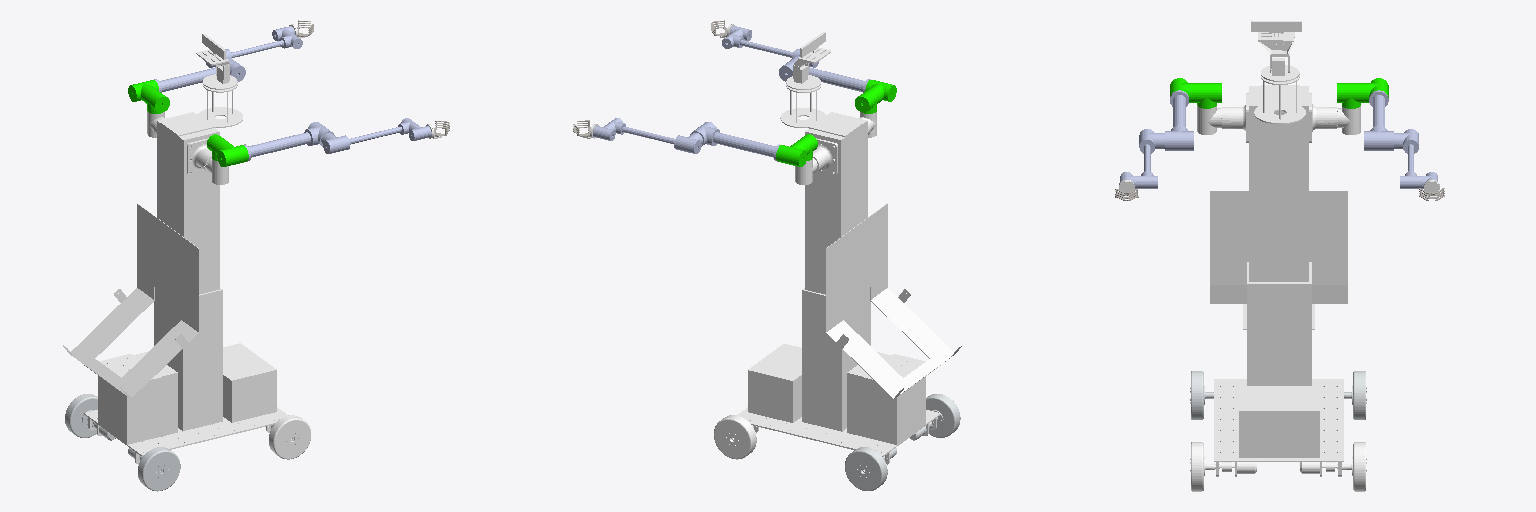
--- Facts derived from the render (not from the file) ---
Views: 3 orthographic renders of the robot side by side, from view 1: azimuth 30°, elevation 25°; view 2: azimuth 150°, elevation 25°; view 3: azimuth 270°, elevation 25°.
Model hustac_pg_v3 with 27 links and 26 joints (24 continuous, 1 prismatic, 1 fixed), rooted at base_link, posed all joints at 0.
Visible links, largest first — view 1: base_link, torso_link, movebase_link3, movebase_link4, movebase_link2, right_link3, left_link3, gaze_link2, left_link5, right_link2, left_link1, right_link5; view 2: base_link, torso_link, movebase_link2, movebase_link1, movebase_link3, left_link3, right_link3, gaze_link2, right_link5, left_link2, right_link1; view 3: base_link, torso_link, gaze_link2, right_link3, left_link3, movebase_link4, movebase_link1, movebase_link3, movebase_link2, left_link1, right_link1, right_link5 (+2 smaller).
Boxes of the visible links, left/top/right/bottom form: base_link: left=63, top=203, right=287, bottom=464; torso_link: left=147, top=84, right=242, bottom=294; movebase_link3: left=128, top=447, right=180, bottom=491; movebase_link4: left=269, top=415, right=310, bottom=459; movebase_link2: left=65, top=394, right=115, bottom=440; right_link3: left=244, top=122, right=334, bottom=161; left_link3: left=154, top=57, right=245, bottom=92; gaze_link2: left=196, top=34, right=229, bottom=82; left_link5: left=225, top=31, right=302, bottom=57; right_link2: left=217, top=144, right=248, bottom=166; left_link1: left=142, top=87, right=169, bottom=113; right_link5: left=344, top=118, right=417, bottom=149; base_link: left=737, top=203, right=961, bottom=464; torso_link: left=780, top=84, right=876, bottom=294; movebase_link2: left=845, top=447, right=896, bottom=490; movebase_link1: left=714, top=415, right=756, bottom=459; movebase_link3: left=910, top=394, right=960, bottom=440; left_link3: left=690, top=122, right=779, bottom=161; right_link3: left=779, top=56, right=870, bottom=92; gaze_link2: left=793, top=32, right=830, bottom=82; right_link5: left=722, top=31, right=798, bottom=58; left_link2: left=776, top=144, right=806, bottom=166; right_link1: left=855, top=87, right=882, bottom=113; base_link: left=1210, top=191, right=1347, bottom=476; torso_link: left=1197, top=75, right=1360, bottom=281; gaze_link2: left=1251, top=20, right=1301, bottom=72; right_link3: left=1165, top=90, right=1193, bottom=150; left_link3: left=1364, top=90, right=1393, bottom=150; movebase_link4: left=1190, top=442, right=1256, bottom=491; movebase_link1: left=1300, top=442, right=1366, bottom=491; movebase_link3: left=1190, top=371, right=1213, bottom=419; movebase_link2: left=1344, top=371, right=1366, bottom=419; left_link1: left=1337, top=83, right=1365, bottom=108; right_link1: left=1193, top=83, right=1221, bottom=108; right_link5: left=1136, top=139, right=1157, bottom=188.
Size in the robot's own frame: 1.15 by 1.02 by 1.51 metres.
26 mesh visuals loaded from 26 distinct referenced files (26 binary STL).

URDF robot description (hustac_pg_v3):
<robot
  name="hustac_pg_v3">
  <link
    name="base_link">
    <inertial>
      <origin
        xyz="-0.152384801730416 -4.93351711045031E-05 0.124894877388109"
        rpy="0 0 0" />
      <mass
        value="89.4624907016849" />
      <inertia
        ixx="1.43388345490279"
        ixy="0.000132975839239011"
        ixz="0.0514523208680338"
        iyy="2.6124534899288"
        iyz="0.000473477453912868"
        izz="2.01349439687514" />
    </inertial>
    <visual>
      <origin
        xyz="0 0 0"
        rpy="0 0 0" />
      <geometry>
        <mesh
          filename="package://hustac_pg_v3/meshes/base_link.STL" />
      </geometry>
      <material
        name="">
        <color
          rgba="1 1 1 1" />
      </material>
    </visual>
    <collision>
      <origin
        xyz="0 0 0"
        rpy="0 0 0" />
      <geometry>
        <mesh
          filename="package://hustac_pg_v3/meshes/base_link.STL" />
      </geometry>
    </collision>
  </link>
  <link
    name="torso_link">
    <inertial>
      <origin
        xyz="0.00079827642328939 3.01921383917825E-05 0.316114605643553"
        rpy="0 0 0" />
      <mass
        value="17.0454055093511" />
      <inertia
        ixx="0.619315965099835"
        ixy="-4.00339004677739E-05"
        ixz="-0.00436386396268782"
        iyy="0.570828514708695"
        iyz="-0.000158229659340951"
        izz="0.108622338127867" />
    </inertial>
    <visual>
      <origin
        xyz="0 0 0"
        rpy="0 0 0" />
      <geometry>
        <mesh
          filename="package://hustac_pg_v3/meshes/torso_link.STL" />
      </geometry>
      <material
        name="">
        <color
          rgba="1 1 1 1" />
      </material>
    </visual>
    <collision>
      <origin
        xyz="0 0 0"
        rpy="0 0 0" />
      <geometry>
        <mesh
          filename="package://hustac_pg_v3/meshes/torso_link.STL" />
      </geometry>
    </collision>
  </link>
  <joint
    name="torso_joint"
    type="prismatic">
    <origin
      xyz="-1.5832E-05 -1.5832E-05 0.5"
      rpy="-7.8886E-31 -2.4286E-16 -2.6984E-16" />
    <parent
      link="base_link" />
    <child
      link="torso_link" />
    <axis
      xyz="0 0 1" />
    <limit
      effort="0"
      velocity="0" />
  </joint>
  <link
    name="left_link1">
    <inertial>
      <origin
        xyz="4.74441436137951E-09 0.000860606471021985 -0.00379622825057979"
        rpy="0 0 0" />
      <mass
        value="0.282400129639665" />
      <inertia
        ixx="0.000253509602154742"
        ixy="-1.0982666294E-11"
        ixz="1.85279386064996E-11"
        iyy="0.000155226372619024"
        iyz="-9.22617777124374E-07"
        izz="0.00023525341674752" />
    </inertial>
    <visual>
      <origin
        xyz="0 0 0"
        rpy="0 0 0" />
      <geometry>
        <mesh
          filename="package://hustac_pg_v3/meshes/left_link1.STL" />
      </geometry>
      <material
        name="">
        <color
          rgba="0.168627450980392 1 0.0274509803921569 1" />
      </material>
    </visual>
    <collision>
      <origin
        xyz="0 0 0"
        rpy="0 0 0" />
      <geometry>
        <mesh
          filename="package://hustac_pg_v3/meshes/left_link1.STL" />
      </geometry>
    </collision>
  </link>
  <joint
    name="left_joint1"
    type="continuous">
    <origin
      xyz="0 0.222 0.61"
      rpy="-3.47304729036467E-17 5.96744875736022E-16 -3.14159265358979" />
    <parent
      link="torso_link" />
    <child
      link="left_link1" />
    <axis
      xyz="0 0 1" />
  </joint>
  <link
    name="left_link2">
    <inertial>
      <origin
        xyz="9.45305167476818E-10 0.000860606505898143 -0.00379622536975684"
        rpy="0 0 0" />
      <mass
        value="0.2824001142096" />
      <inertia
        ixx="0.000253509580708817"
        ixy="-1.08641723538627E-11"
        ixz="5.26586097434057E-12"
        iyy="0.000155226373044821"
        iyz="-9.22617058430691E-07"
        izz="0.000235253423304767" />
    </inertial>
    <visual>
      <origin
        xyz="0 0 0"
        rpy="0 0 0" />
      <geometry>
        <mesh
          filename="package://hustac_pg_v3/meshes/left_link2.STL" />
      </geometry>
      <material
        name="">
        <color
          rgba="0.168627450980392 1 0.0274509803921569 1" />
      </material>
    </visual>
    <collision>
      <origin
        xyz="0 0 0"
        rpy="0 0 0" />
      <geometry>
        <mesh
          filename="package://hustac_pg_v3/meshes/left_link2.STL" />
      </geometry>
    </collision>
  </link>
  <joint
    name="left_joint2"
    type="continuous">
    <origin
      xyz="0 -0.0849999999999999 0"
      rpy="1.70423675438618 1.57079631189374 0.133440427591288" />
    <parent
      link="left_link1" />
    <child
      link="left_link2" />
    <axis
      xyz="0 0 1" />
  </joint>
  <link
    name="left_link3">
    <inertial>
      <origin
        xyz="2.09170325504715E-09 0.00037942163947207 -0.0993975720132856"
        rpy="0 0 0" />
      <mass
        value="0.640541692148901" />
      <inertia
        ixx="0.00726441985226313"
        ixy="-1.16273689456554E-11"
        ixz="-1.0956096526367E-10"
        iyy="0.00716601967778952"
        iyz="-2.41571265900033E-05"
        izz="0.000321135841128423" />
    </inertial>
    <visual>
      <origin
        xyz="0 0 0"
        rpy="0 0 0" />
      <geometry>
        <mesh
          filename="package://hustac_pg_v3/meshes/left_link3.STL" />
      </geometry>
      <material
        name="">
        <color
          rgba="0.792156862745098 0.819607843137255 0.933333333333333 1" />
      </material>
    </visual>
    <collision>
      <origin
        xyz="0 0 0"
        rpy="0 0 0" />
      <geometry>
        <mesh
          filename="package://hustac_pg_v3/meshes/left_link3.STL" />
      </geometry>
    </collision>
  </link>
  <joint
    name="left_joint3"
    type="continuous">
    <origin
      xyz="0 -0.35 0"
      rpy="-1.5707963267949 9.34447673947081E-17 3.14159265358979" />
    <parent
      link="left_link2" />
    <child
      link="left_link3" />
    <axis
      xyz="0 0 1" />
  </joint>
  <link
    name="left_link4">
    <inertial>
      <origin
        xyz="5.23182497325081E-10 0.000987080498156996 -0.0110209547990487"
        rpy="0 0 0" />
      <mass
        value="0.188640665914286" />
      <inertia
        ixx="0.000135106424724665"
        ixy="-1.24512886603136E-11"
        ixz="4.47078440440258E-12"
        iyy="0.000108943726861082"
        iyz="-2.05214060471245E-06"
        izz="8.93151006462272E-05" />
    </inertial>
    <visual>
      <origin
        xyz="0 0 0"
        rpy="0 0 0" />
      <geometry>
        <mesh
          filename="package://hustac_pg_v3/meshes/left_link4.STL" />
      </geometry>
      <material
        name="">
        <color
          rgba="0.792156862745098 0.819607843137255 0.933333333333333 1" />
      </material>
    </visual>
    <collision>
      <origin
        xyz="0 0 0"
        rpy="0 0 0" />
      <geometry>
        <mesh
          filename="package://hustac_pg_v3/meshes/left_link4.STL" />
      </geometry>
    </collision>
  </link>
  <joint
    name="left_joint4"
    type="continuous">
    <origin
      xyz="0 -0.0990000000000001 0"
      rpy="-1.5707963267949 -1.11022302462516E-16 -3.14159265358979" />
    <parent
      link="left_link3" />
    <child
      link="left_link4" />
    <axis
      xyz="0 0 1" />
  </joint>
  <link
    name="left_link5">
    <inertial>
      <origin
        xyz="1.36848732346095E-09 0.000497540428185728 -0.078440352473969"
        rpy="0 0 0" />
      <mass
        value="0.188789060770594" />
      <inertia
        ixx="0.00171650030081302"
        ixy="-1.81891555999539E-12"
        ixz="-1.69828496417892E-11"
        iyy="0.00169655727215824"
        iyz="-7.36791722311758E-06"
        izz="5.19114920499587E-05" />
    </inertial>
    <visual>
      <origin
        xyz="0 0 0"
        rpy="0 0 0" />
      <geometry>
        <mesh
          filename="package://hustac_pg_v3/meshes/left_link5.STL" />
      </geometry>
      <material
        name="">
        <color
          rgba="0.792156862745098 0.819607843137255 0.933333333333333 1" />
      </material>
    </visual>
    <collision>
      <origin
        xyz="0 0 0"
        rpy="0 0 0" />
      <geometry>
        <mesh
          filename="package://hustac_pg_v3/meshes/left_link5.STL" />
      </geometry>
    </collision>
  </link>
  <joint
    name="left_joint5"
    type="continuous">
    <origin
      xyz="0 -0.3 0"
      rpy="-1.5707963267949 -1.60902701370267E-16 3.14159265358979" />
    <parent
      link="left_link4" />
    <child
      link="left_link5" />
    <axis
      xyz="0 0 1" />
  </joint>
  <link
    name="left_link6">
    <inertial>
      <origin
        xyz="6.11908523850957E-10 0.000997680391540134 -0.00297185603629835"
        rpy="0 0 0" />
      <mass
        value="0.0941485774984353" />
      <inertia
        ixx="4.39688594097792E-05"
        ixy="-1.75091815300525E-12"
        ixz="1.02575145125081E-12"
        iyy="2.40728118714626E-05"
        iyz="-2.79147001136473E-07"
        izz="4.03142529145276E-05" />
    </inertial>
    <visual>
      <origin
        xyz="0 0 0"
        rpy="0 0 0" />
      <geometry>
        <mesh
          filename="package://hustac_pg_v3/meshes/left_link6.STL" />
      </geometry>
      <material
        name="">
        <color
          rgba="0.792156862745098 0.819607843137255 0.933333333333333 1" />
      </material>
    </visual>
    <collision>
      <origin
        xyz="0 0 0"
        rpy="0 0 0" />
      <geometry>
        <mesh
          filename="package://hustac_pg_v3/meshes/left_link6.STL" />
      </geometry>
    </collision>
  </link>
  <joint
    name="left_joint6"
    type="continuous">
    <origin
      xyz="0 -0.0640000000000001 0"
      rpy="-1.5707963267949 6.93889390390723E-18 -3.14159265358979" />
    <parent
      link="left_link5" />
    <child
      link="left_link6" />
    <axis
      xyz="0 0 1" />
  </joint>
  <link
    name="left_link7">
    <inertial>
      <origin
        xyz="3.10255765523237E-10 0.00488175590325657 0.0094593306659026"
        rpy="0 0 0" />
      <mass
        value="0.0238610409992475" />
      <inertia
        ixx="6.6214330650804E-06"
        ixy="3.51067575764802E-14"
        ixz="1.5049175610862E-14"
        iyy="5.93593202992512E-06"
        iyz="-1.62955877142949E-06"
        izz="8.29159974096986E-06" />
    </inertial>
    <visual>
      <origin
        xyz="0 0 0"
        rpy="0 0 0" />
      <geometry>
        <mesh
          filename="package://hustac_pg_v3/meshes/left_link7.STL" />
      </geometry>
      <material
        name="">
        <color
          rgba="1 1 1 1" />
      </material>
    </visual>
    <collision>
      <origin
        xyz="0 0 0"
        rpy="0 0 0" />
      <geometry>
        <mesh
          filename="package://hustac_pg_v3/meshes/left_link7.STL" />
      </geometry>
    </collision>
  </link>
  <joint
    name="left_joint7"
    type="continuous">
    <origin
      xyz="0 -0.034 0"
      rpy="1.5707963267949 1.5707963267949 0" />
    <parent
      link="left_link6" />
    <child
      link="left_link7" />
    <axis
      xyz="0 0 1" />
  </joint>
  <link
    name="left_ee_link">
    <inertial>
      <origin
        xyz="-0.0104511249147865 0.0200422330307001 0.00473202669947459"
        rpy="0 0 0" />
      <mass
        value="0.00506893153791106" />
      <inertia
        ixx="2.42978795459253E-06"
        ixy="3.6419508303903E-07"
        ixz="2.13478750983576E-07"
        iyy="1.02186457282365E-06"
        iyz="-6.73507198403219E-07"
        izz="2.46533886484517E-06" />
    </inertial>
    <visual>
      <origin
        xyz="0 0 0"
        rpy="0 0 0" />
      <geometry>
        <mesh
          filename="package://hustac_pg_v3/meshes/left_ee_link.STL" />
      </geometry>
      <material
        name="">
        <color
          rgba="0.776470588235294 0.756862745098039 0.737254901960784 1" />
      </material>
    </visual>
    <collision>
      <origin
        xyz="0 0 0"
        rpy="0 0 0" />
      <geometry>
        <mesh
          filename="package://hustac_pg_v3/meshes/left_ee_link.STL" />
      </geometry>
    </collision>
  </link>
  <joint
    name="left_ee_joint"
    type="continuous">
    <origin
      xyz="-0.0110000000000008 0.0105000000000003 0.0221811953944651"
      rpy="1.5707963267949 6.40215462385206E-19 2.24264473650599E-16" />
    <parent
      link="left_link7" />
    <child
      link="left_ee_link" />
    <axis
      xyz="0 0 -1" />
  </joint>
  <link
    name="left_ee_link2">
    <inertial>
      <origin
        xyz="0.0098988779365487 0.020320662696838 0.0047320266994747"
        rpy="0 0 0" />
      <mass
        value="0.005068931537911" />
      <inertia
        ixx="2.44865465013533E-06"
        ixy="-3.25144959237628E-07"
        ixz="-1.94972377252117E-07"
        iyy="1.00299787728082E-06"
        iyz="-6.79095645348363E-07"
        izz="2.46533886484514E-06" />
    </inertial>
    <visual>
      <origin
        xyz="0 0 0"
        rpy="0 0 0" />
      <geometry>
        <mesh
          filename="package://hustac_pg_v3/meshes/left_ee_link2.STL" />
      </geometry>
      <material
        name="">
        <color
          rgba="0.776470588235294 0.756862745098039 0.737254901960784 1" />
      </material>
    </visual>
    <collision>
      <origin
        xyz="0 0 0"
        rpy="0 0 0" />
      <geometry>
        <mesh
          filename="package://hustac_pg_v3/meshes/left_ee_link2.STL" />
      </geometry>
    </collision>
  </link>
  <joint
    name="left_ee_joint2"
    type="continuous">
    <origin
      xyz="0.0110000000000001 0.0105000000000002 0.0221811953944651"
      rpy="1.5707963267949 6.40215462385206E-19 2.24264473650599E-16" />
    <parent
      link="left_link7" />
    <child
      link="left_ee_link2" />
    <axis
      xyz="0 0 -1" />
  </joint>
  <link
    name="right_link1">
    <inertial>
      <origin
        xyz="-2.87357232453545E-09 0.000860606448409518 -0.00379622823748849"
        rpy="0 0 0" />
      <mass
        value="0.282400129088101" />
      <inertia
        ixx="0.000253509602809457"
        ixy="-1.28341065106255E-11"
        ixz="-6.97934423758907E-12"
        iyy="0.000155226372481429"
        iyz="-9.22617736839297E-07"
        izz="0.000235253415531243" />
    </inertial>
    <visual>
      <origin
        xyz="0 0 0"
        rpy="0 0 0" />
      <geometry>
        <mesh
          filename="package://hustac_pg_v3/meshes/right_link1.STL" />
      </geometry>
      <material
        name="">
        <color
          rgba="0.168627450980392 1 0.0274509803921569 1" />
      </material>
    </visual>
    <collision>
      <origin
        xyz="0 0 0"
        rpy="0 0 0" />
      <geometry>
        <mesh
          filename="package://hustac_pg_v3/meshes/right_link1.STL" />
      </geometry>
    </collision>
  </link>
  <joint
    name="right_joint1"
    type="continuous">
    <origin
      xyz="0 -0.222 0.61"
      rpy="-1.44900829258215E-16 -7.14706072102445E-16 2.84494650060195E-15" />
    <parent
      link="torso_link" />
    <child
      link="right_link1" />
    <axis
      xyz="0 0 1" />
  </joint>
  <link
    name="right_link2">
    <inertial>
      <origin
        xyz="9.45305167476818E-10 0.000860606505897976 -0.00379622536975677"
        rpy="0 0 0" />
      <mass
        value="0.2824001142096" />
      <inertia
        ixx="0.000253509580708817"
        ixy="-1.08641723936732E-11"
        ixz="5.26586103021678E-12"
        iyy="0.000155226373044821"
        iyz="-9.22617058430763E-07"
        izz="0.000235253423304767" />
    </inertial>
    <visual>
      <origin
        xyz="0 0 0"
        rpy="0 0 0" />
      <geometry>
        <mesh
          filename="package://hustac_pg_v3/meshes/right_link2.STL" />
      </geometry>
      <material
        name="">
        <color
          rgba="0.168627450980392 1 0.0274509803921569 1" />
      </material>
    </visual>
    <collision>
      <origin
        xyz="0 0 0"
        rpy="0 0 0" />
      <geometry>
        <mesh
          filename="package://hustac_pg_v3/meshes/right_link2.STL" />
      </geometry>
    </collision>
  </link>
  <joint
    name="right_joint2"
    type="continuous">
    <origin
      xyz="0 -0.085 0"
      rpy="1.5707963267949 -1.5707963267949 0" />
    <parent
      link="right_link1" />
    <child
      link="right_link2" />
    <axis
      xyz="0 0 1" />
  </joint>
  <link
    name="right_link3">
    <inertial>
      <origin
        xyz="-1.26689192470053E-09 0.000379421629088439 -0.0993975720898352"
        rpy="0 0 0" />
      <mass
        value="0.640541691597337" />
      <inertia
        ixx="0.00726441984857735"
        ixy="-1.24436265420934E-11"
        ixz="7.06008805139157E-11"
        iyy="0.00716601967331769"
        iyz="-2.4157125915642E-05"
        izz="0.00032113583990587" />
    </inertial>
    <visual>
      <origin
        xyz="0 0 0"
        rpy="0 0 0" />
      <geometry>
        <mesh
          filename="package://hustac_pg_v3/meshes/right_link3.STL" />
      </geometry>
      <material
        name="">
        <color
          rgba="0.792156862745098 0.819607843137255 0.933333333333333 1" />
      </material>
    </visual>
    <collision>
      <origin
        xyz="0 0 0"
        rpy="0 0 0" />
      <geometry>
        <mesh
          filename="package://hustac_pg_v3/meshes/right_link3.STL" />
      </geometry>
    </collision>
  </link>
  <joint
    name="right_joint3"
    type="continuous">
    <origin
      xyz="0 -0.35 0"
      rpy="-1.5707963267949 4.69556343789277E-17 3.14159265358979" />
    <parent
      link="right_link2" />
    <child
      link="right_link3" />
    <axis
      xyz="0 0 1" />
  </joint>
  <link
    name="right_link4">
    <inertial>
      <origin
        xyz="5.23182608347383E-10 0.000987080498156993 -0.0110209547990489"
        rpy="0 0 0" />
      <mass
        value="0.188640665914286" />
      <inertia
        ixx="0.000135106424724665"
        ixy="-1.24512886755602E-11"
        ixz="4.47078447625519E-12"
        iyy="0.000108943726861082"
        iyz="-2.0521406047124E-06"
        izz="8.93151006462272E-05" />
    </inertial>
    <visual>
      <origin
        xyz="0 0 0"
        rpy="0 0 0" />
      <geometry>
        <mesh
          filename="package://hustac_pg_v3/meshes/right_link4.STL" />
      </geometry>
      <material
        name="">
        <color
          rgba="0.792156862745098 0.819607843137255 0.933333333333333 1" />
      </material>
    </visual>
    <collision>
      <origin
        xyz="0 0 0"
        rpy="0 0 0" />
      <geometry>
        <mesh
          filename="package://hustac_pg_v3/meshes/right_link4.STL" />
      </geometry>
    </collision>
  </link>
  <joint
    name="right_joint4"
    type="continuous">
    <origin
      xyz="0 -0.0990000000000004 0"
      rpy="-1.5707963267949 -6.93889390390723E-18 3.14159265358979" />
    <parent
      link="right_link3" />
    <child
      link="right_link4" />
    <axis
      xyz="0 0 1" />
  </joint>
  <link
    name="right_link5">
    <inertial>
      <origin
        xyz="-7.64793006702291E-10 0.000497540423684217 -0.0784403525436494"
        rpy="0 0 0" />
      <mass
        value="0.188789060585377" />
      <inertia
        ixx="0.0017165002999699"
        ixy="-2.01929499692028E-12"
        ixz="1.0584619295499E-11"
        iyy="0.00169655727120642"
        iyz="-7.36791715343006E-06"
        izz="5.19114918573948E-05" />
    </inertial>
    <visual>
      <origin
        xyz="0 0 0"
        rpy="0 0 0" />
      <geometry>
        <mesh
          filename="package://hustac_pg_v3/meshes/right_link5.STL" />
      </geometry>
      <material
        name="">
        <color
          rgba="0.792156862745098 0.819607843137255 0.933333333333333 1" />
      </material>
    </visual>
    <collision>
      <origin
        xyz="0 0 0"
        rpy="0 0 0" />
      <geometry>
        <mesh
          filename="package://hustac_pg_v3/meshes/right_link5.STL" />
      </geometry>
    </collision>
  </link>
  <joint
    name="right_joint5"
    type="continuous">
    <origin
      xyz="0 -0.3 0"
      rpy="-1.5707963267949 1.38489731979257E-16 -3.14159265358979" />
    <parent
      link="right_link4" />
    <child
      link="right_link5" />
    <axis
      xyz="0 0 1" />
  </joint>
  <link
    name="right_link6">
    <inertial>
      <origin
        xyz="6.11908412828654E-10 0.000997680391540245 -0.00297185603629846"
        rpy="0 0 0" />
      <mass
        value="0.094148577498435" />
      <inertia
        ixx="4.3968859409779E-05"
        ixy="-1.75091816867536E-12"
        ixz="1.02575140575681E-12"
        iyy="2.40728118714625E-05"
        iyz="-2.79147001136418E-07"
        izz="4.03142529145275E-05" />
    </inertial>
    <visual>
      <origin
        xyz="0 0 0"
        rpy="0 0 0" />
      <geometry>
        <mesh
          filename="package://hustac_pg_v3/meshes/right_link6.STL" />
      </geometry>
      <material
        name="">
        <color
          rgba="0.792156862745098 0.819607843137255 0.933333333333333 1" />
      </material>
    </visual>
    <collision>
      <origin
        xyz="0 0 0"
        rpy="0 0 0" />
      <geometry>
        <mesh
          filename="package://hustac_pg_v3/meshes/right_link6.STL" />
      </geometry>
    </collision>
  </link>
  <joint
    name="right_joint6"
    type="continuous">
    <origin
      xyz="0 -0.0639999999999999 0"
      rpy="-1.5707963267949 -1.11022302462516E-16 -3.14159265358979" />
    <parent
      link="right_link5" />
    <child
      link="right_link6" />
    <axis
      xyz="0 0 1" />
  </joint>
  <link
    name="right_link7">
    <inertial>
      <origin
        xyz="-3.1025271240992E-10 -0.00488175590325302 0.0094593306659026"
        rpy="0 0 0" />
      <mass
        value="0.0238610409992475" />
      <inertia
        ixx="6.62143306508118E-06"
        ixy="3.51064172185128E-14"
        ixz="-1.50487913469646E-14"
        iyy="5.9359320299251E-06"
        iyz="1.62955877142993E-06"
        izz="8.29159974097066E-06" />
    </inertial>
    <visual>
      <origin
        xyz="0 0 0"
        rpy="0 0 0" />
      <geometry>
        <mesh
          filename="package://hustac_pg_v3/meshes/right_link7.STL" />
      </geometry>
      <material
        name="">
        <color
          rgba="1 1 1 1" />
      </material>
    </visual>
    <collision>
      <origin
        xyz="0 0 0"
        rpy="0 0 0" />
      <geometry>
        <mesh
          filename="package://hustac_pg_v3/meshes/right_link7.STL" />
      </geometry>
    </collision>
  </link>
  <joint
    name="right_joint7"
    type="continuous">
    <origin
      xyz="0 -0.034 0"
      rpy="1.5707963267949 1.5707963267949 0" />
    <parent
      link="right_link6" />
    <child
      link="right_link7" />
    <axis
      xyz="0 0 1" />
  </joint>
  <link
    name="right_ee_link">
    <inertial>
      <origin
        xyz="-0.00786989624640644 0.0211891917028314 0.00473202694465302"
        rpy="0 0 0" />
      <mass
        value="0.00506893153791106" />
      <inertia
        ixx="2.49802240360424E-06"
        ixy="1.78642778393487E-07"
        ixz="1.27813439260075E-07"
        iyy="9.53630123811921E-07"
        iyz="-6.94873260506518E-07"
        izz="2.46533886484516E-06" />
    </inertial>
    <visual>
      <origin
        xyz="0 0 0"
        rpy="0 0 0" />
      <geometry>
        <mesh
          filename="package://hustac_pg_v3/meshes/right_ee_link.STL" />
      </geometry>
      <material
        name="">
        <color
          rgba="0.776470588235294 0.756862745098039 0.737254901960784 1" />
      </material>
    </visual>
    <collision>
      <origin
        xyz="0 0 0"
        rpy="0 0 0" />
      <geometry>
        <mesh
          filename="package://hustac_pg_v3/meshes/right_ee_link.STL" />
      </geometry>
    </collision>
  </link>
  <joint
    name="right_ee_joint"
    type="continuous">
    <origin
      xyz="0.0110000000000067 -0.0104999999999925 0.0221811953944649"
      rpy="1.5707963267949 7.47513322448154E-18 -3.14159265358979" />
    <parent
      link="right_link7" />
    <child
      link="right_ee_link" />
    <axis
      xyz="0 0 -1" />
  </joint>
  <link
    name="right_ee_link2">
    <inertial>
      <origin
        xyz="0.00659519493320093 0.0216199102827142 0.00473202669948436"
        rpy="0 0 0" />
      <mass
        value="0.00506893153791103" />
      <inertia
        ixx="2.51377570664327E-06"
        ixy="-8.56492622315812E-08"
        ixz="-8.62419899790844E-08"
        iyy="9.3787682077291E-07"
        iyz="-7.01247062444405E-07"
        izz="2.46533886484516E-06" />
    </inertial>
    <visual>
      <origin
        xyz="0 0 0"
        rpy="0 0 0" />
      <geometry>
        <mesh
          filename="package://hustac_pg_v3/meshes/right_ee_link2.STL" />
      </geometry>
      <material
        name="">
        <color
          rgba="0.776470588235294 0.756862745098039 0.737254901960784 1" />
      </material>
    </visual>
    <collision>
      <origin
        xyz="0 0 0"
        rpy="0 0 0" />
      <geometry>
        <mesh
          filename="package://hustac_pg_v3/meshes/right_ee_link2.STL" />
      </geometry>
    </collision>
  </link>
  <joint
    name="right_ee_joint2"
    type="continuous">
    <origin
      xyz="-0.0110000000000009 -0.0104999999999998 0.0221811953944632"
      rpy="1.5707963267949 7.47513322448154E-18 -3.14159265358979" />
    <parent
      link="right_link7" />
    <child
      link="right_ee_link2" />
    <axis
      xyz="0 0 -1" />
  </joint>
  <link
    name="gaze_link1">
    <inertial>
      <origin
        xyz="0.00332314338033088 -0.00166685318807747 0.0152159364388744"
        rpy="0 0 0" />
      <mass
        value="0.150566307832226" />
      <inertia
        ixx="0.000115144351223355"
        ixy="1.67570359368863E-06"
        ixz="-1.03958431832344E-05"
        iyy="0.000113564190859189"
        iyz="5.20649724762848E-06"
        izz="0.000139133815813377" />
    </inertial>
    <visual>
      <origin
        xyz="0 0 0"
        rpy="0 0 0" />
      <geometry>
        <mesh
          filename="package://hustac_pg_v3/meshes/gaze_link1.STL" />
      </geometry>
      <material
        name="">
        <color
          rgba="1 1 1 1" />
      </material>
    </visual>
    <collision>
      <origin
        xyz="0 0 0"
        rpy="0 0 0" />
      <geometry>
        <mesh
          filename="package://hustac_pg_v3/meshes/gaze_link1.STL" />
      </geometry>
    </collision>
  </link>
  <joint
    name="gaze_joint1"
    type="continuous">
    <origin
      xyz="0.128043357043904 0.00300000000000078 0.728"
      rpy="2.36658271566304E-30 2.4980018054066E-16 2.93111764559954E-15" />
    <parent
      link="torso_link" />
    <child
      link="gaze_link1" />
    <axis
      xyz="0 0 -1" />
  </joint>
  <link
    name="gaze_link2">
    <inertial>
      <origin
        xyz="-0.0933002369417908 -0.0315613902482236 -0.0210661375537418"
        rpy="0 0 0" />
      <mass
        value="0.137563261149672" />
      <inertia
        ixx="0.000246822046761975"
        ixy="-6.36584038385022E-05"
        ixz="1.92838091398628E-05"
        iyy="0.000348311526737285"
        iyz="1.12981590257425E-05"
        izz="0.000223382527067793" />
    </inertial>
    <visual>
      <origin
        xyz="0 0 0"
        rpy="0 0 0" />
      <geometry>
        <mesh
          filename="package://hustac_pg_v3/meshes/gaze_link2.STL" />
      </geometry>
      <material
        name="">
        <color
          rgba="1 1 1 1" />
      </material>
    </visual>
    <collision>
      <origin
        xyz="0 0 0"
        rpy="0 0 0" />
      <geometry>
        <mesh
          filename="package://hustac_pg_v3/meshes/gaze_link2.STL" />
      </geometry>
    </collision>
  </link>
  <joint
    name="gaze_joint2"
    type="continuous">
    <origin
      xyz="0.01 -0.031 0.0259999999999996"
      rpy="-1.69414531841237 1.57079631189374 2.99390185732041" />
    <parent
      link="gaze_link1" />
    <child
      link="gaze_link2" />
    <axis
      xyz="0 0 1" />
  </joint>
  <link
    name="movebase_link1">
    <inertial>
      <origin
        xyz="1.02755349089684E-05 -6.13129857995887E-09 -0.0238601812392738"
        rpy="0 0 0" />
      <mass
        value="1.21338763949041" />
      <inertia
        ixx="0.00568352810160651"
        ixy="2.98155597433514E-19"
        ixz="5.73484420208184E-07"
        iyy="0.00568357790753054"
        iyz="2.11994461266658E-15"
        izz="0.00215961172887464" />
    </inertial>
    <visual>
      <origin
        xyz="0 0 0"
        rpy="0 0 0" />
      <geometry>
        <mesh
          filename="package://hustac_pg_v3/meshes/movebase_link1.STL" />
      </geometry>
      <material
        name="">
        <color
          rgba="1 1 1 1" />
      </material>
    </visual>
    <collision>
      <origin
        xyz="0 0 0"
        rpy="0 0 0" />
      <geometry>
        <mesh
          filename="package://hustac_pg_v3/meshes/movebase_link1.STL" />
      </geometry>
    </collision>
  </link>
  <joint
    name="movebase_joint1"
    type="continuous">
    <origin
      xyz="0.25798 0.22848 -0.04"
      rpy="-1.5708 -1.0408E-16 0" />
    <parent
      link="base_link" />
    <child
      link="movebase_link1" />
    <axis
      xyz="0 0 -1" />
  </joint>
  <link
    name="movebase_link2">
    <inertial>
      <origin
        xyz="-1.02882751050748E-05 -1.43245970640749E-09 -0.0238601748305925"
        rpy="0 0 0" />
      <mass
        value="1.21338763949041" />
      <inertia
        ixx="0.00568352829157572"
        ixy="1.67716589314498E-14"
        ixz="-5.73482492765679E-07"
        iyy="0.00568357809750189"
        iyz="7.42549312152505E-11"
        izz="0.00215961172887679" />
    </inertial>
    <visual>
      <origin
        xyz="0 0 0"
        rpy="0 0 0" />
      <geometry>
        <mesh
          filename="package://hustac_pg_v3/meshes/movebase_link2.STL" />
      </geometry>
      <material
        name="">
        <color
          rgba="0.898039215686275 0.917647058823529 0.929411764705882 1" />
      </material>
    </visual>
    <collision>
      <origin
        xyz="0 0 0"
        rpy="0 0 0" />
      <geometry>
        <mesh
          filename="package://hustac_pg_v3/meshes/movebase_link2.STL" />
      </geometry>
    </collision>
  </link>
  <joint
    name="movebase_joint2"
    type="continuous">
    <origin
      xyz="-0.26202 0.22848 -0.04"
      rpy="-1.5708 -1.0408E-16 0" />
    <parent
      link="base_link" />
    <child
      link="movebase_link2" />
    <axis
      xyz="0 0 -1" />
  </joint>
  <link
    name="movebase_link3">
    <inertial>
      <origin
        xyz="1.02879751315843E-05 9.84803349979302E-11 -0.0238601767444937"
        rpy="0 0 0" />
      <mass
        value="1.21338763949041" />
      <inertia
        ixx="0.00568352810631195"
        ixy="1.23170787805216E-15"
        ixz="5.73479156772246E-07"
        iyy="0.0056835779122419"
        iyz="2.20368682510795E-12"
        izz="0.00215961172888057" />
    </inertial>
    <visual>
      <origin
        xyz="0 0 0"
        rpy="0 0 0" />
      <geometry>
        <mesh
          filename="package://hustac_pg_v3/meshes/movebase_link3.STL" />
      </geometry>
      <material
        name="">
        <color
          rgba="0.898039215686275 0.917647058823529 0.929411764705882 1" />
      </material>
    </visual>
    <collision>
      <origin
        xyz="0 0 0"
        rpy="0 0 0" />
      <geometry>
        <mesh
          filename="package://hustac_pg_v3/meshes/movebase_link3.STL" />
      </geometry>
    </collision>
  </link>
  <joint
    name="movebase_joint3"
    type="continuous">
    <origin
      xyz="-0.26202 -0.23252 -0.04"
      rpy="-1.5708 1.8735E-16 3.1416" />
    <parent
      link="base_link" />
    <child
      link="movebase_link3" />
    <axis
      xyz="0 0 1" />
  </joint>
  <link
    name="movebase_link4">
    <inertial>
      <origin
        xyz="-1.02971411043012E-05 -3.71761554873729E-09 -0.0238601903655846"
        rpy="0 0 0" />
      <mass
        value="1.21338763949041" />
      <inertia
        ixx="0.00568352810001746"
        ixy="-2.20797772426673E-16"
        ixz="-5.73484283476812E-07"
        iyy="0.0056835779059417"
        iyz="5.21777890584448E-13"
        izz="0.00215961172887485" />
    </inertial>
    <visual>
      <origin
        xyz="0 0 0"
        rpy="0 0 0" />
      <geometry>
        <mesh
          filename="package://hustac_pg_v3/meshes/movebase_link4.STL" />
      </geometry>
      <material
        name="">
        <color
          rgba="1 1 1 1" />
      </material>
    </visual>
    <collision>
      <origin
        xyz="0 0 0"
        rpy="0 0 0" />
      <geometry>
        <mesh
          filename="package://hustac_pg_v3/meshes/movebase_link4.STL" />
      </geometry>
    </collision>
  </link>
  <joint
    name="movebase_joint4"
    type="continuous">
    <origin
      xyz="0.25798 -0.23252 -0.04"
      rpy="-1.5708 1.8735E-16 3.1416" />
    <parent
      link="base_link" />
    <child
      link="movebase_link4" />
    <axis
      xyz="0 0 1" />
  </joint>
  <link
    name="base_footprint" />
  <joint
    name="base_footprint_joint"
    type="fixed">
    <origin
      xyz="-1.5832309812891E-05 -1.58323099415103E-05 -0.11600000000001"
      rpy="-1.96455034355289E-16 -2.42861286636753E-16 -2.69836193741272E-16" />
    <parent
      link="base_link" />
    <child
      link="base_footprint" />
    <axis
      xyz="0 0 0" />
  </joint>
</robot>
